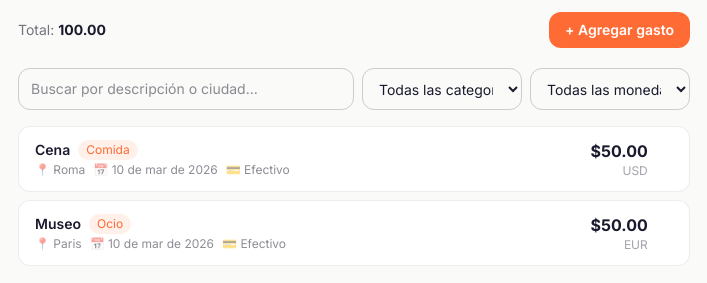
Scenario: search and filters › shows a no-results message when the filter matches nothing
Expected: the text "Cena" is shown, [35, 140, 70, 160]
Type "nada-coincide" into the field with placeholder "Buscar por descripción o ciudad..." at coordinates (186, 89), box [18, 68, 354, 110]
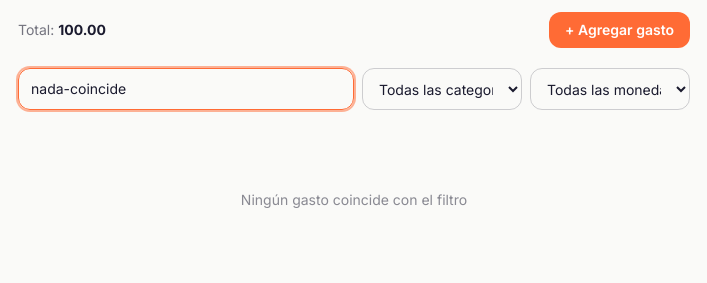
Expected: the text "Ningún gasto coincide con el filtro" is shown, [241, 191, 467, 208]
